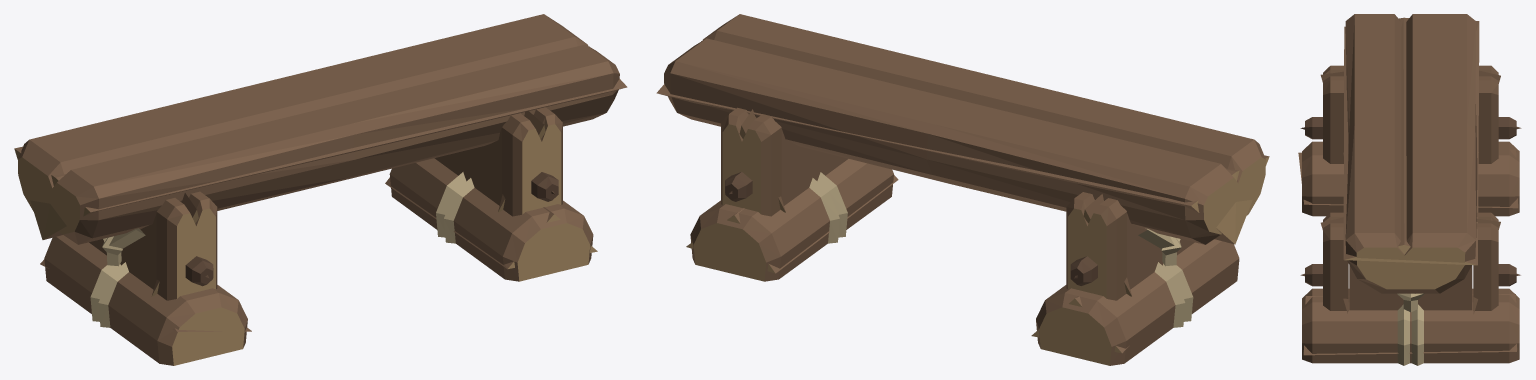
The model's file is pf_bench.glb.
The picture shows the model from 3 angles, left to right: view 1: azimuth 30°, elevation 25°; view 2: azimuth 150°, elevation 25°; view 3: azimuth 270°, elevation 25°; orthographic projection. The views are drawn at different scales.
Visible parts, largest first — view 1: body, body__far; view 2: body, body__far; view 3: body, body__far.
Boxes of the visible parts, x1=… form: body: x1=18, y1=14, x2=619, y2=365; body__far: x1=14, y1=46, x2=627, y2=331; body: x1=664, y1=14, x2=1265, y2=365; body__far: x1=656, y1=41, x2=1269, y2=353; body: x1=1302, y1=14, x2=1519, y2=365; body__far: x1=1298, y1=17, x2=1521, y2=355.
Size of the model in its own units: 0.9822 by 0.2925 by 0.4004.
